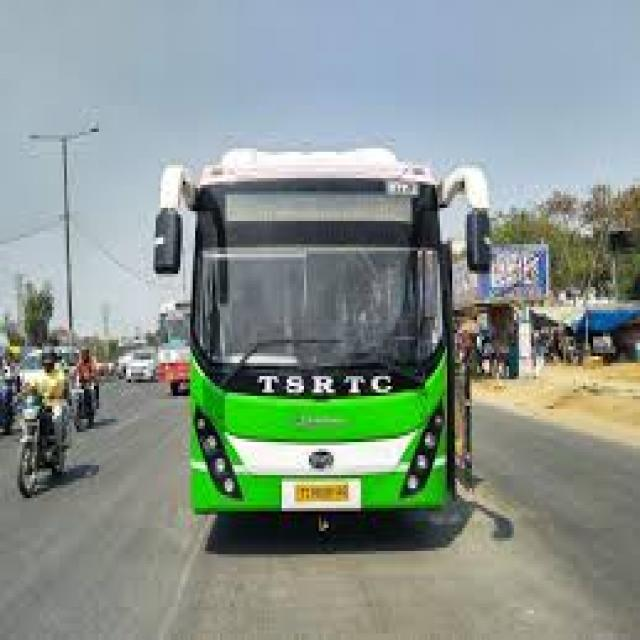BUS: (143, 102, 470, 512)
